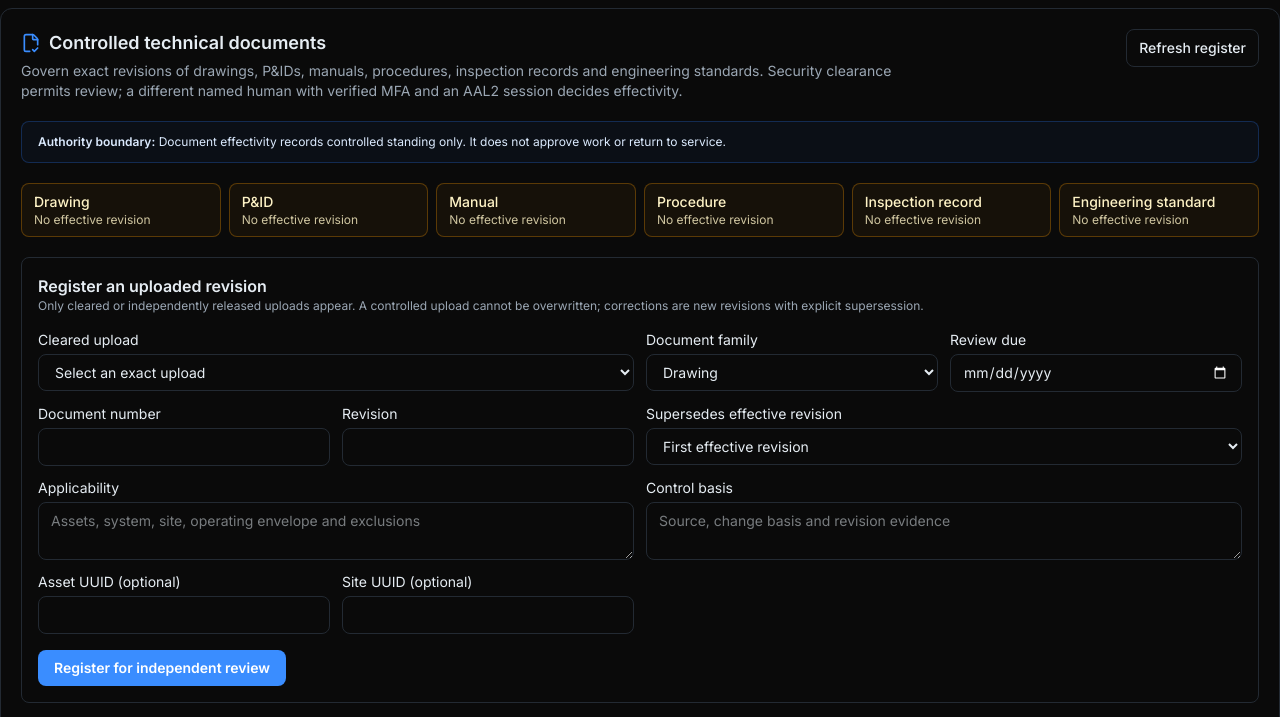
ControlledTechnicalDocuments › registers a cleared upload for independent review without authority
Select "Pump arrangement drawing · drawing-22-a · cleared" in the dropdown labelled "Cleared upload". click: (336, 372)
box: [38,354,634,391]
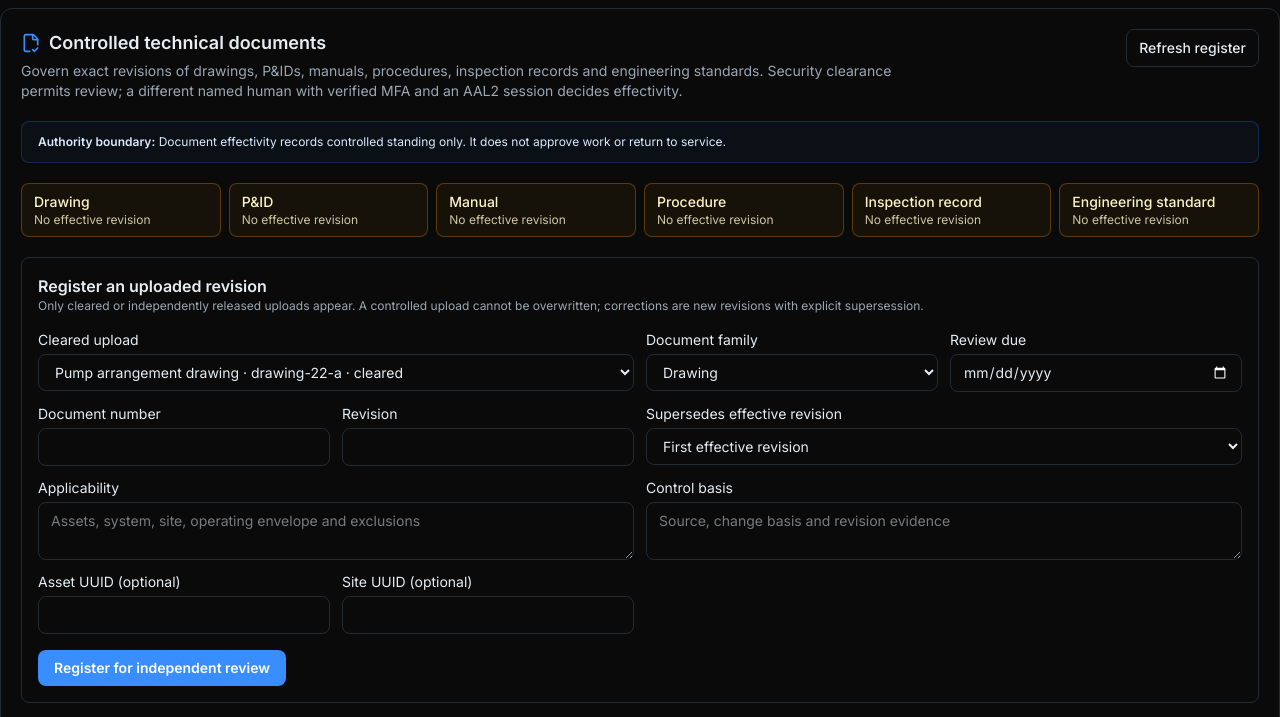
Type "DWG-22" into the field labelled "Document number". click: (184, 447)
box: [38,428,330,466]
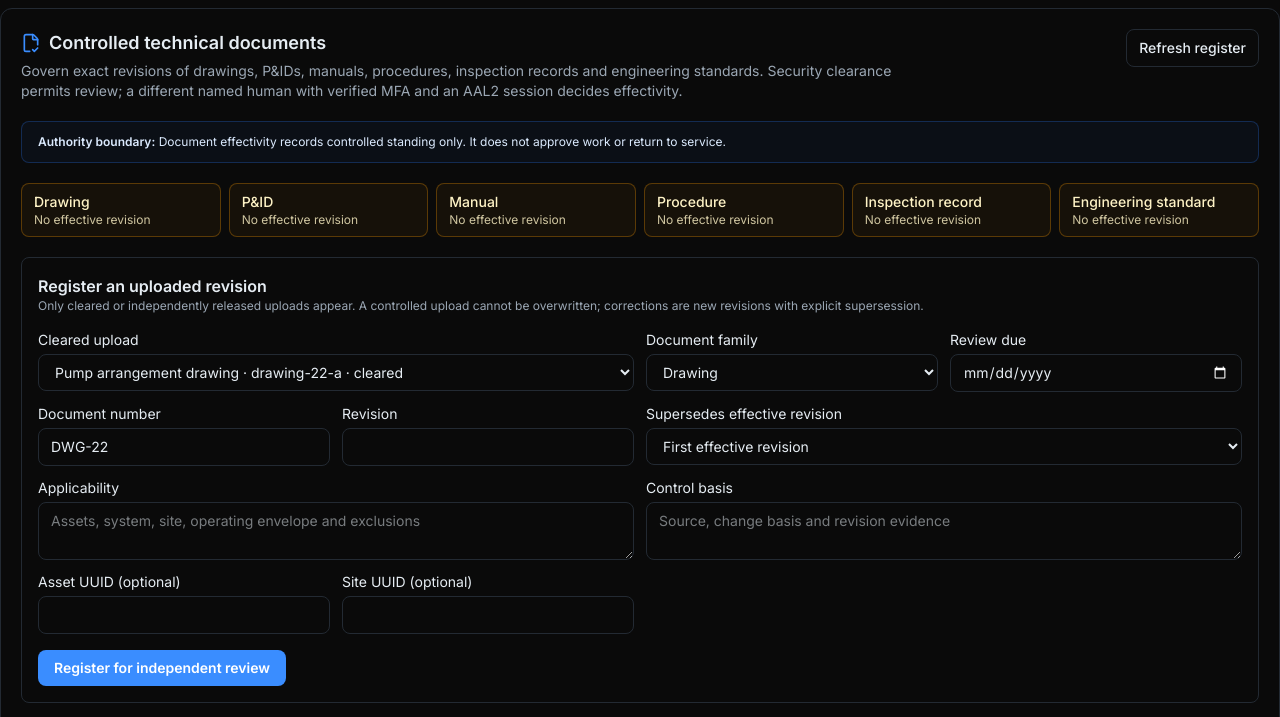
Type "A" into the field labelled "Revision". click: (488, 447)
box: [342,428,634,466]
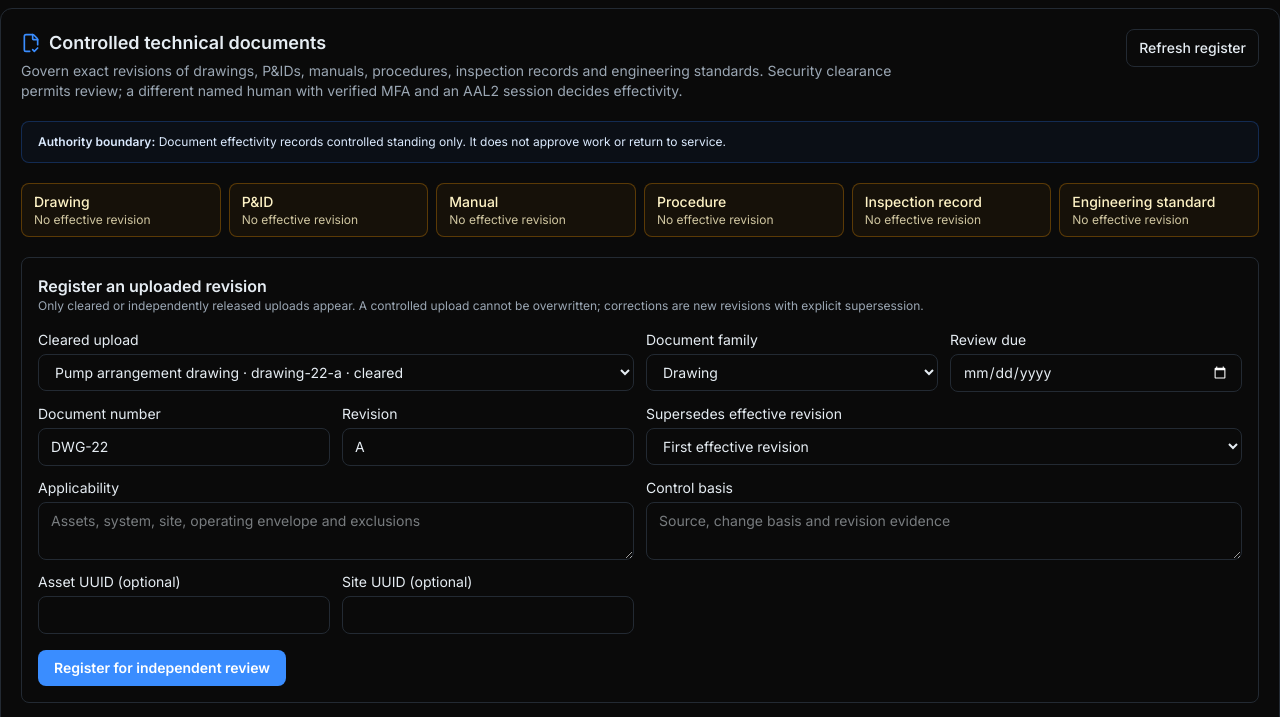
Type "Pump P-22 arrangement at the process-water station." into the text box labelled "Applicability". click: (336, 531)
box: [38,502,634,560]
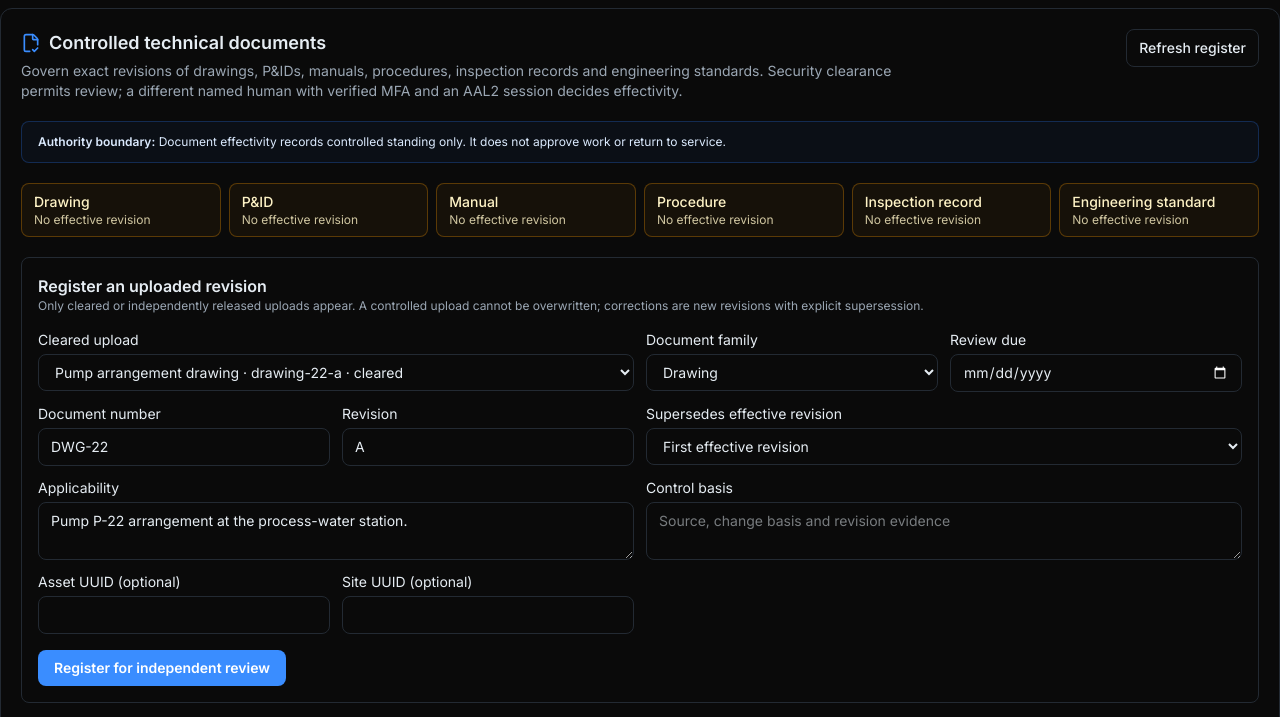
Type "Checked manufacturer issue and approved field redline." into the text box labelled "Control basis". click: (944, 531)
box: [646,502,1242,560]
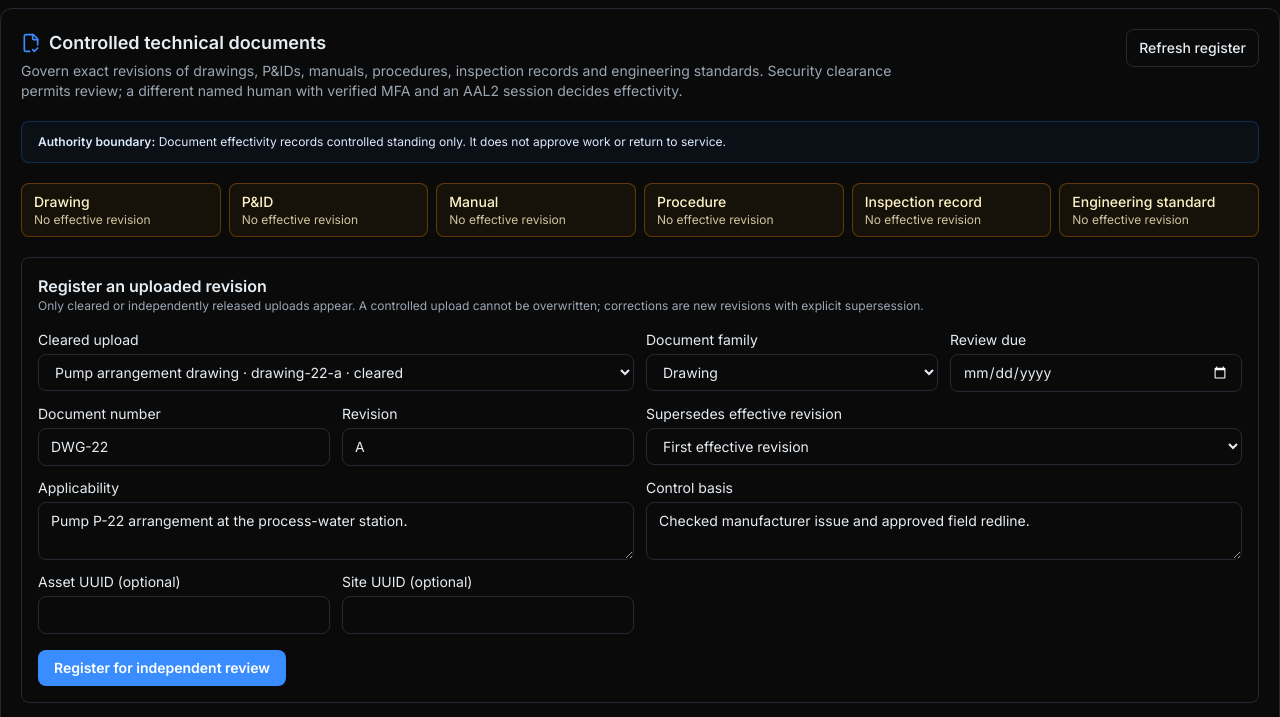
Click the button "Register for independent review". click: (162, 668)
box: [38,650,286,686]
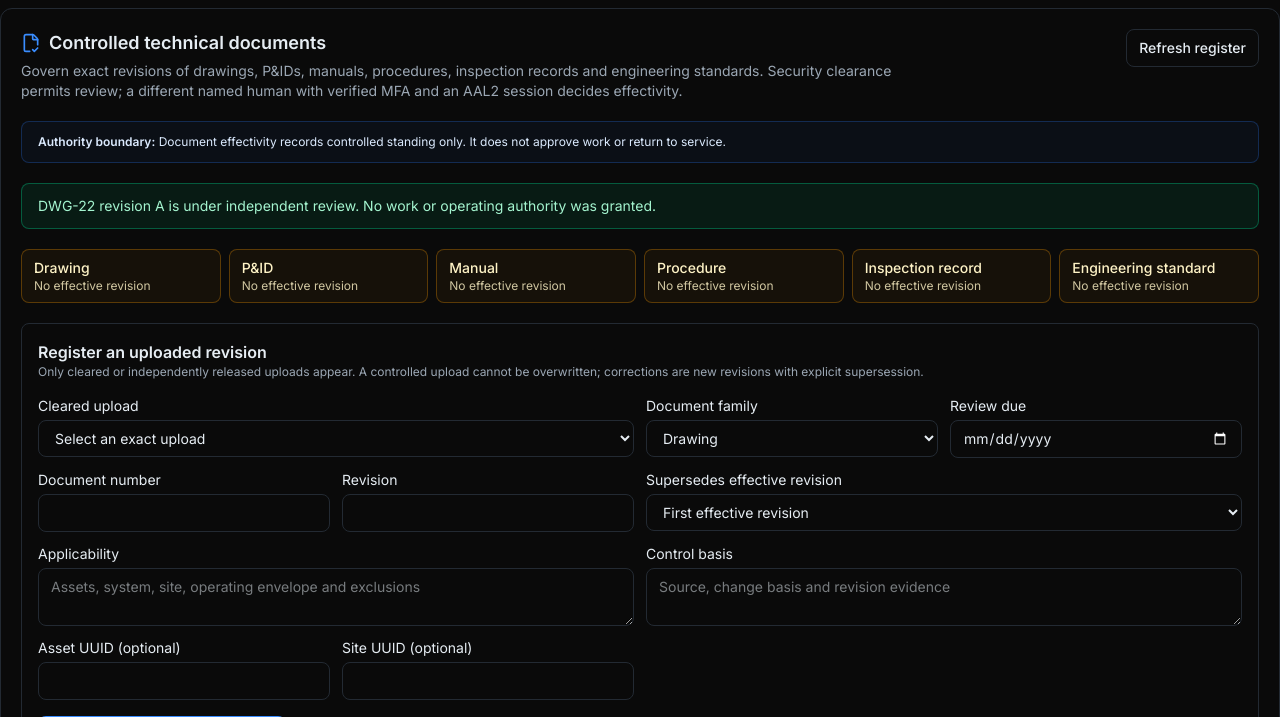
Now the message is shown, box [21,183,1259,229]
Now the message shows "No work or operating authority was granted", box [38,197,656,214]
